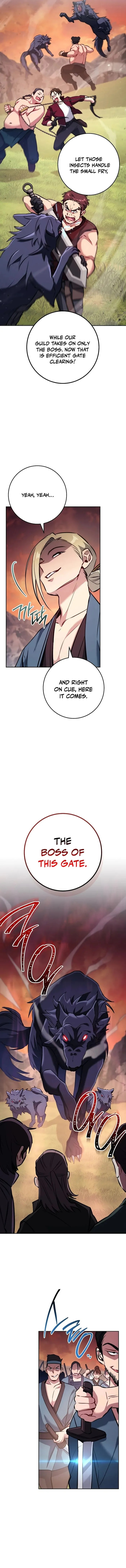bubbles: (22, 812, 103, 893), (24, 310, 101, 386), (42, 645, 106, 719), (7, 464, 68, 534), (55, 132, 121, 196)
